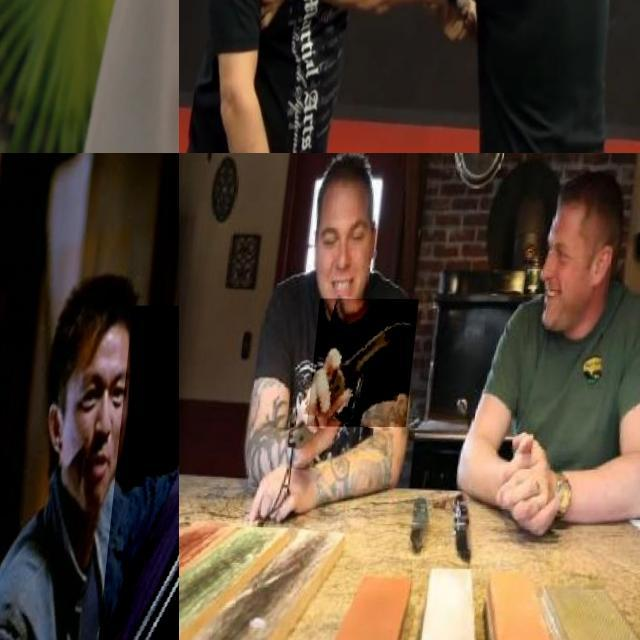-: (314, 298, 424, 427)
gun-knife-thesis - v11 Yolov5 augmented: (101, 305, 179, 640), (0, 0, 151, 97)
